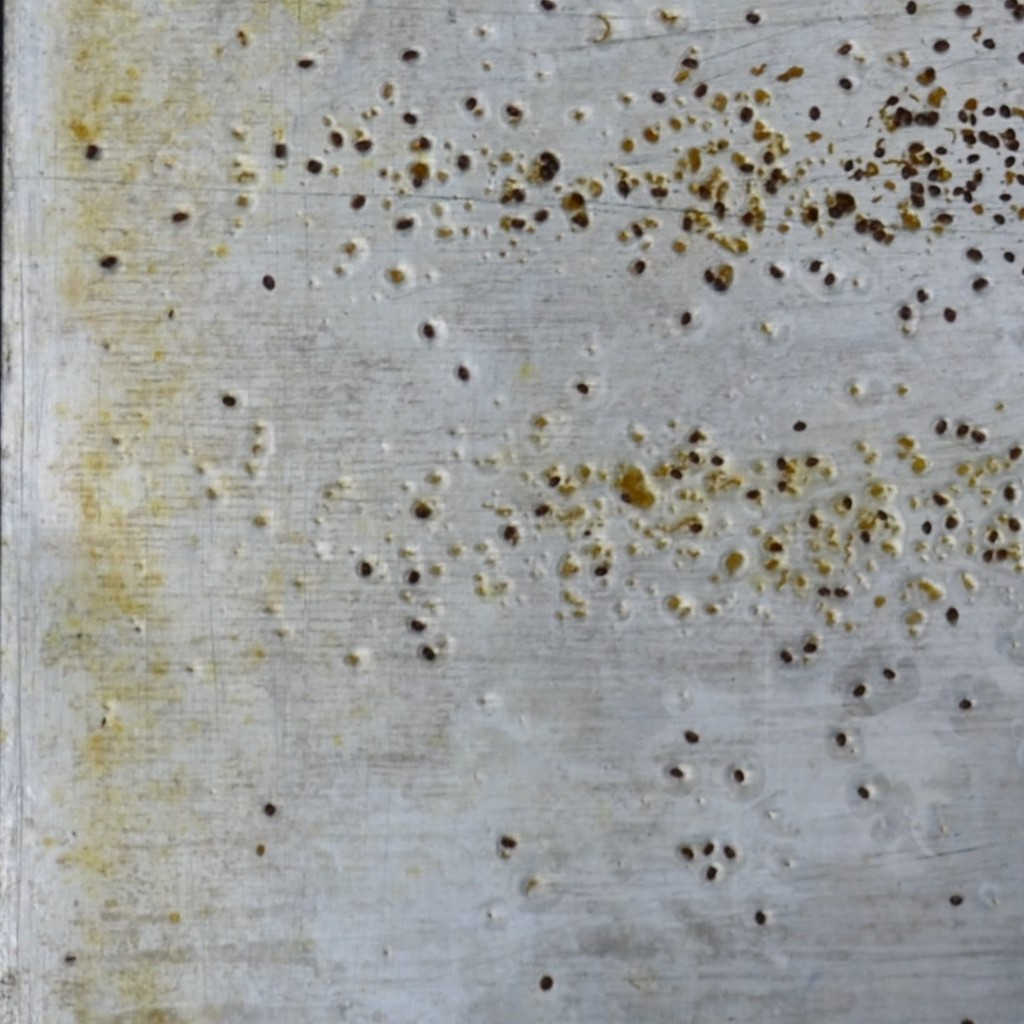varroa: (834, 188, 855, 209), (97, 252, 119, 272), (419, 643, 439, 663), (537, 972, 556, 993), (413, 502, 435, 520), (400, 46, 420, 65), (393, 216, 413, 235), (348, 192, 366, 212), (409, 617, 427, 637), (260, 272, 277, 293), (405, 567, 422, 588), (82, 143, 101, 161), (971, 276, 989, 295), (500, 832, 519, 850), (170, 209, 190, 226), (738, 105, 755, 125), (739, 209, 755, 230), (935, 210, 954, 227), (668, 765, 687, 782), (679, 56, 700, 71), (352, 139, 373, 154), (833, 728, 847, 750), (691, 81, 708, 99), (880, 665, 898, 682), (777, 648, 795, 665), (682, 728, 700, 745), (532, 502, 550, 519), (743, 11, 762, 27), (305, 158, 324, 174), (455, 363, 471, 382), (943, 514, 959, 533), (501, 523, 517, 542), (295, 57, 315, 72), (835, 42, 852, 59), (650, 87, 667, 104), (328, 130, 345, 147), (931, 491, 948, 508), (943, 605, 960, 622), (965, 248, 983, 264), (837, 75, 853, 93), (539, 164, 555, 182), (402, 109, 418, 127), (421, 321, 437, 339), (357, 560, 375, 576), (732, 765, 745, 787), (615, 181, 630, 200), (851, 681, 866, 700), (722, 841, 737, 860), (547, 473, 561, 493), (457, 152, 470, 173), (768, 262, 784, 279), (570, 214, 587, 230), (533, 208, 549, 225), (947, 891, 964, 907), (855, 784, 871, 801), (262, 801, 278, 818), (942, 305, 957, 323), (505, 102, 523, 117), (463, 95, 478, 113), (822, 270, 837, 288), (1007, 444, 1022, 462), (933, 418, 948, 436), (1006, 516, 1021, 534), (874, 505, 889, 523), (802, 641, 820, 656), (273, 141, 287, 160), (953, 3, 972, 17), (931, 38, 950, 52), (808, 104, 822, 123), (571, 188, 585, 207), (686, 521, 705, 535), (680, 845, 694, 864), (791, 417, 807, 433), (827, 205, 844, 220), (805, 206, 820, 223), (712, 277, 727, 294), (703, 864, 718, 881), (618, 489, 633, 506), (763, 178, 777, 196), (701, 839, 715, 857), (698, 183, 711, 202), (775, 454, 788, 473), (926, 108, 938, 128), (908, 140, 924, 155), (871, 227, 886, 243), (807, 259, 822, 275), (510, 216, 525, 232), (957, 697, 973, 712), (806, 513, 821, 529), (908, 193, 925, 207), (540, 148, 557, 162), (220, 393, 237, 407), (687, 428, 701, 445), (709, 453, 726, 467), (687, 449, 701, 466), (898, 303, 911, 321), (679, 309, 692, 327), (1002, 484, 1015, 502), (921, 519, 934, 537), (903, 1, 918, 16), (926, 183, 941, 198), (909, 179, 924, 194), (774, 478, 789, 493), (855, 218, 869, 234), (970, 429, 986, 443), (955, 423, 969, 439), (803, 455, 819, 469), (593, 565, 609, 579), (1002, 247, 1015, 264), (981, 548, 994, 565), (746, 488, 763, 501), (573, 381, 590, 394), (842, 493, 854, 511), (1002, 126, 1016, 141), (981, 105, 996, 119), (769, 540, 783, 555), (834, 585, 849, 599), (816, 584, 831, 598), (998, 103, 1011, 119), (992, 210, 1005, 226), (539, 0, 555, 13), (410, 173, 423, 189), (711, 200, 727, 213), (702, 268, 715, 284), (633, 259, 646, 275), (858, 528, 871, 544), (842, 157, 854, 174), (513, 187, 525, 204), (754, 909, 766, 926), (922, 149, 933, 167), (763, 149, 774, 167), (982, 37, 996, 51), (995, 548, 1009, 562), (962, 133, 977, 146), (901, 164, 914, 179), (418, 135, 431, 150), (956, 107, 968, 123), (885, 95, 901, 107), (738, 161, 754, 173), (986, 528, 998, 544), (986, 135, 999, 149), (914, 111, 927, 125), (872, 145, 885, 159), (669, 467, 683, 480), (1013, 3, 1023, 21), (923, 65, 935, 80), (903, 109, 913, 127), (770, 166, 782, 181), (915, 287, 926, 303), (951, 184, 964, 197), (934, 144, 947, 157), (926, 168, 939, 181), (1006, 140, 1020, 152), (633, 225, 645, 239), (998, 192, 1013, 203), (965, 153, 980, 164), (1003, 155, 1015, 168), (979, 130, 990, 144), (972, 169, 983, 183), (964, 179, 978, 190), (962, 189, 973, 203), (1014, 172, 1023, 188), (1004, 0, 1019, 9), (868, 218, 879, 230), (547, 160, 560, 170), (969, 112, 977, 127), (895, 105, 905, 116), (892, 116, 902, 127), (1017, 49, 1023, 65)
